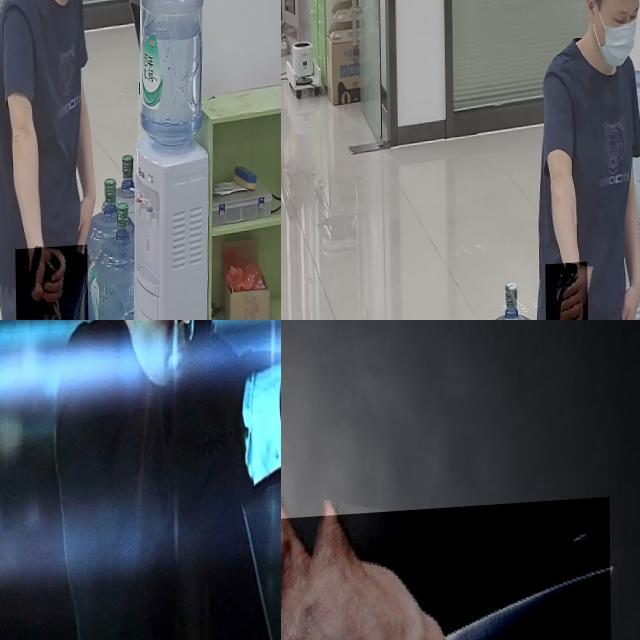-: (281, 505, 612, 640)
gun-knife-thesis - v11 Yolov5 augmented: (13, 250, 87, 320), (544, 268, 587, 320)
